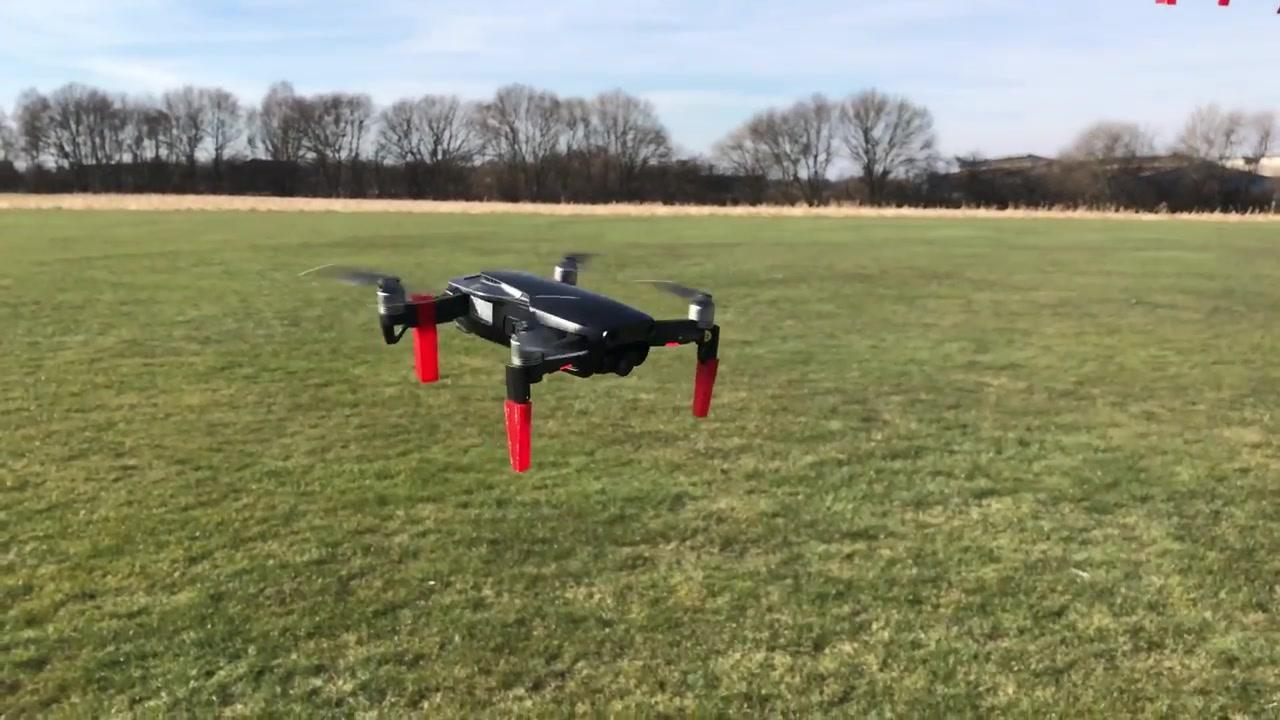UAV: (312, 250, 722, 475)
